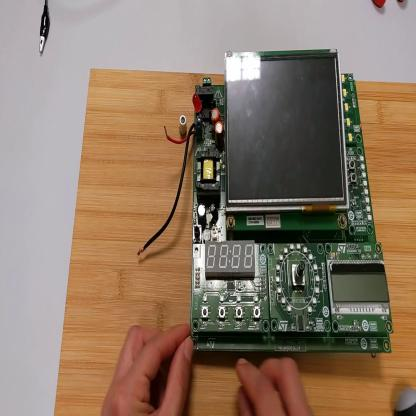hand: (101, 320, 194, 413), (236, 358, 312, 414)
low voltage board: (138, 50, 393, 355)
pliers: (373, 3, 408, 13)
screwdriver-: (394, 386, 416, 414)
working area: (54, 70, 416, 416)
